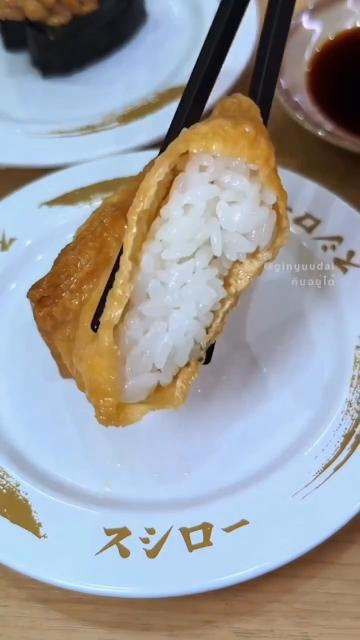janwhite: (0, 422, 360, 614), (0, 50, 219, 145), (301, 167, 360, 425)
